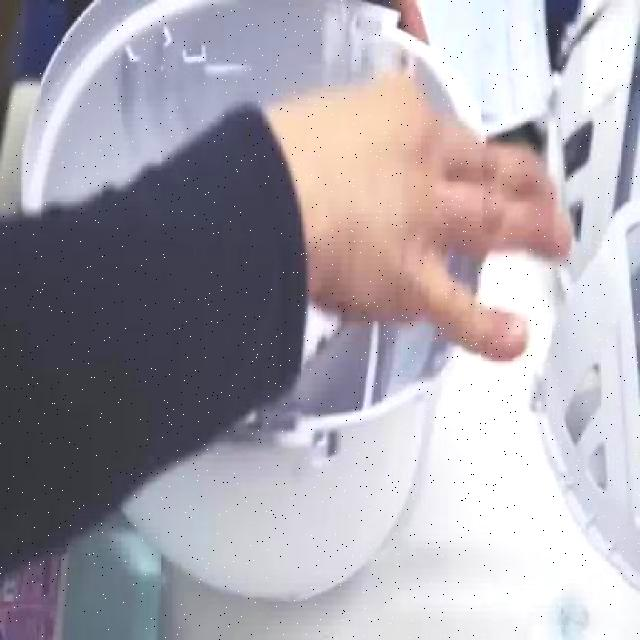Helmet: (17, 0, 492, 606)
